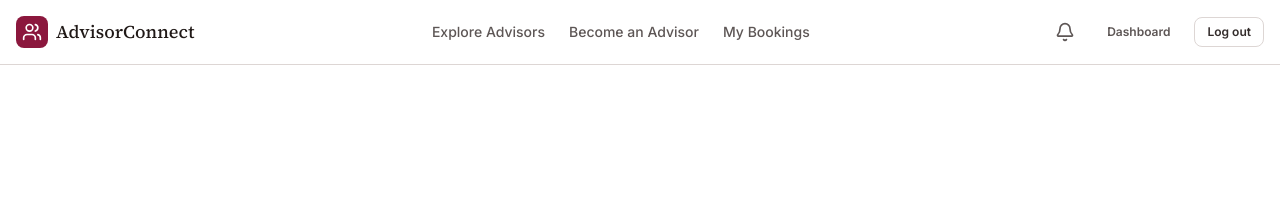
Test: Navbar › notifications bell › shows a compact error message when the inbox fails
This screenshot has width=1280, height=205.
Click the button named "notifications": {"x": 1065, "y": 32} [1047,14,1083,50]
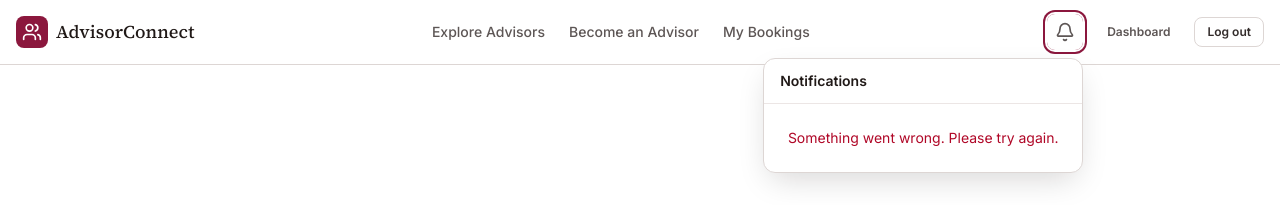
Result: the message reads "Something went wrong. Please try again." at [788,129,1058,146]
